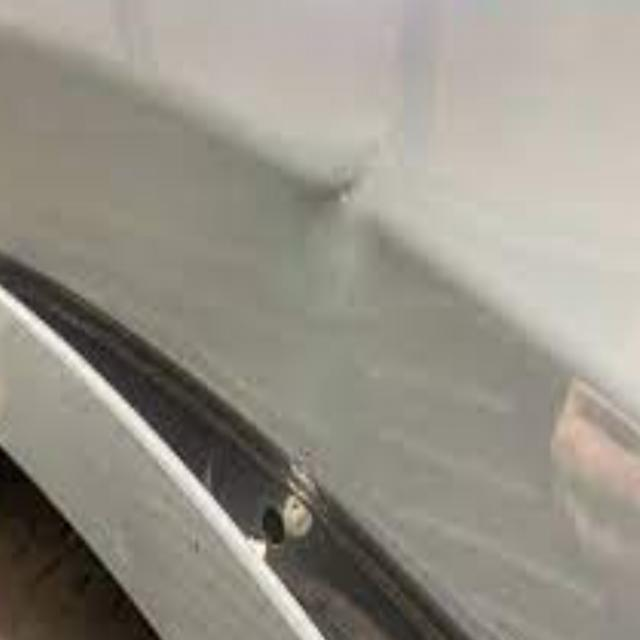dents: (290, 130, 414, 303)
